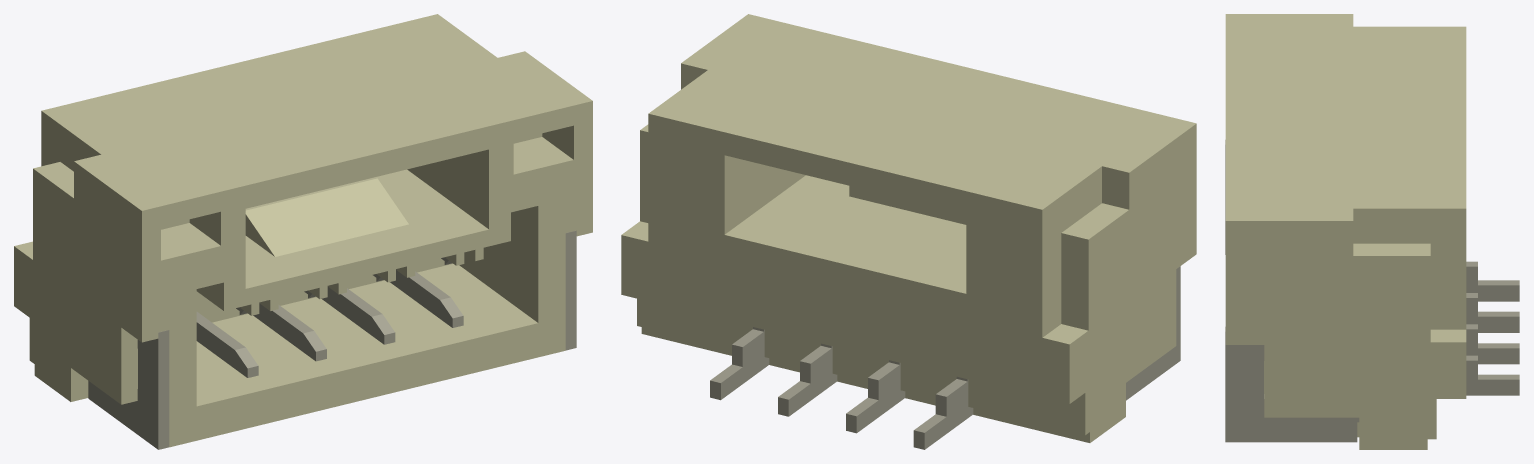
The model's file is J11_JST_GH_SM04B-GHS-TB_1x04-1MP_P1.25mm_Horizontal.obj.
3 renders of one model, left to right at view 1: azimuth 30°, elevation 25°; view 2: azimuth 150°, elevation 25°; view 3: azimuth 270°, elevation 25°, orthographic. The views are drawn at different scales.
Parts seen in each view (by area): view 1: J11; view 2: J11; view 3: J11.
Part boxes in pixels (x1=…): J11: x1=14, y1=14, x2=592, y2=449; J11: x1=621, y1=14, x2=1196, y2=449; J11: x1=1225, y1=14, x2=1519, y2=449.
Size of the model in its own units: 0.0825 by 0.0425 by 0.0495.
